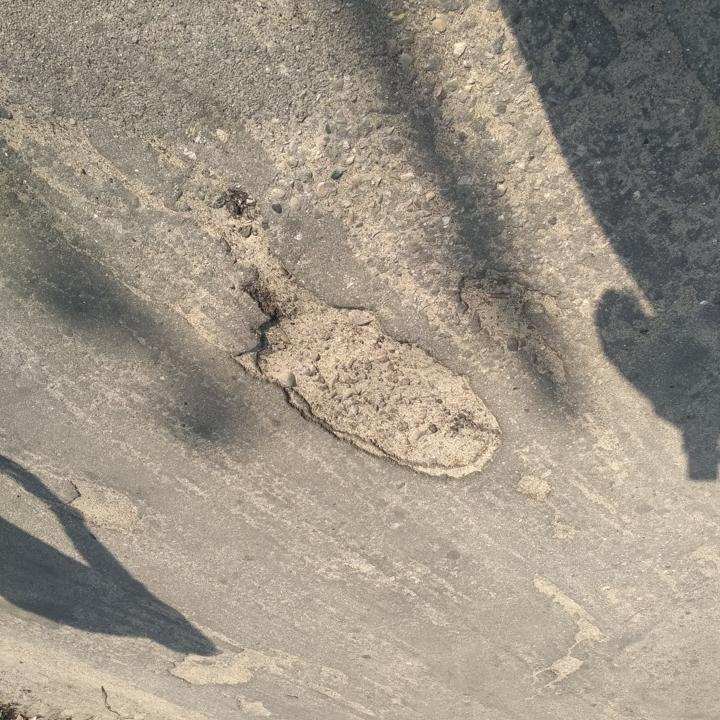pothole: (212, 227, 504, 484), (455, 270, 575, 392), (517, 574, 606, 688), (57, 477, 148, 537), (166, 639, 267, 688), (512, 473, 554, 503), (235, 694, 272, 719)
